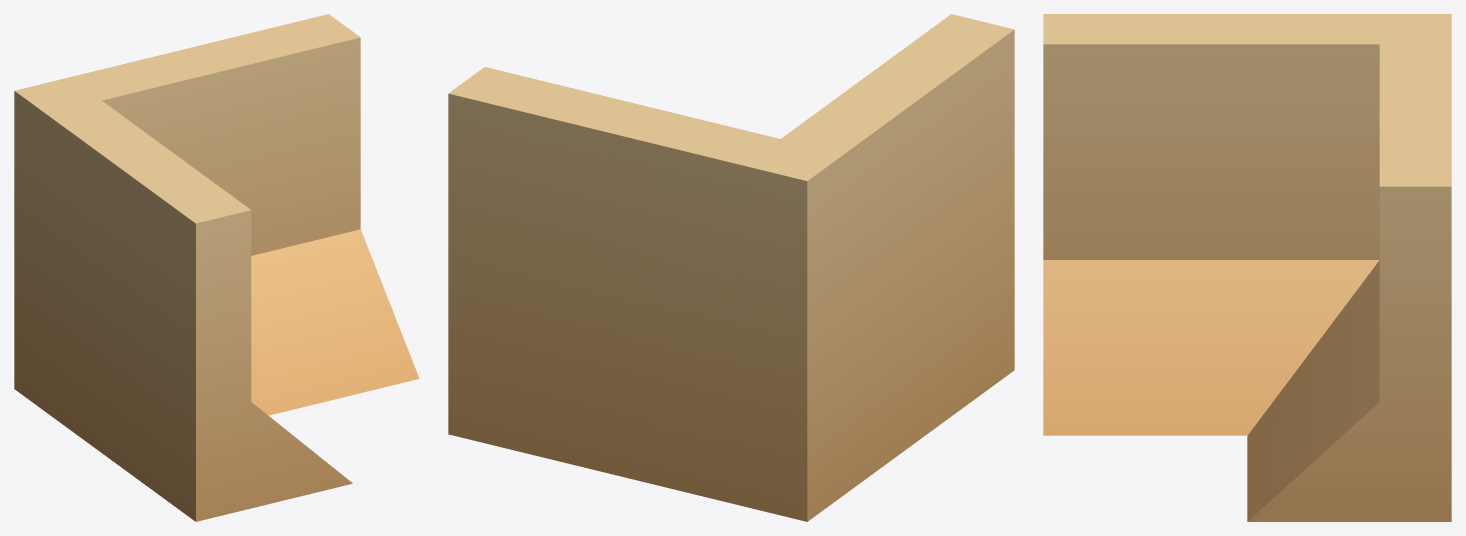
The model's file is corridor_corner.fbx.
The picture shows the model from 3 angles, left to right: view 1: azimuth 30°, elevation 25°; view 2: azimuth 150°, elevation 25°; view 3: azimuth 270°, elevation 25°; orthographic projection. The views are drawn at different scales.
Visible parts, largest first — view 1: corridor.corner; view 2: corridor.corner; view 3: corridor.corner.
Boxes of the visible parts, x1=… form: corridor.corner: x1=14, y1=14, x2=419, y2=521; corridor.corner: x1=448, y1=14, x2=1014, y2=521; corridor.corner: x1=1043, y1=14, x2=1451, y2=521.
Size of the model in its own units: 30 by 27.2 by 30.
